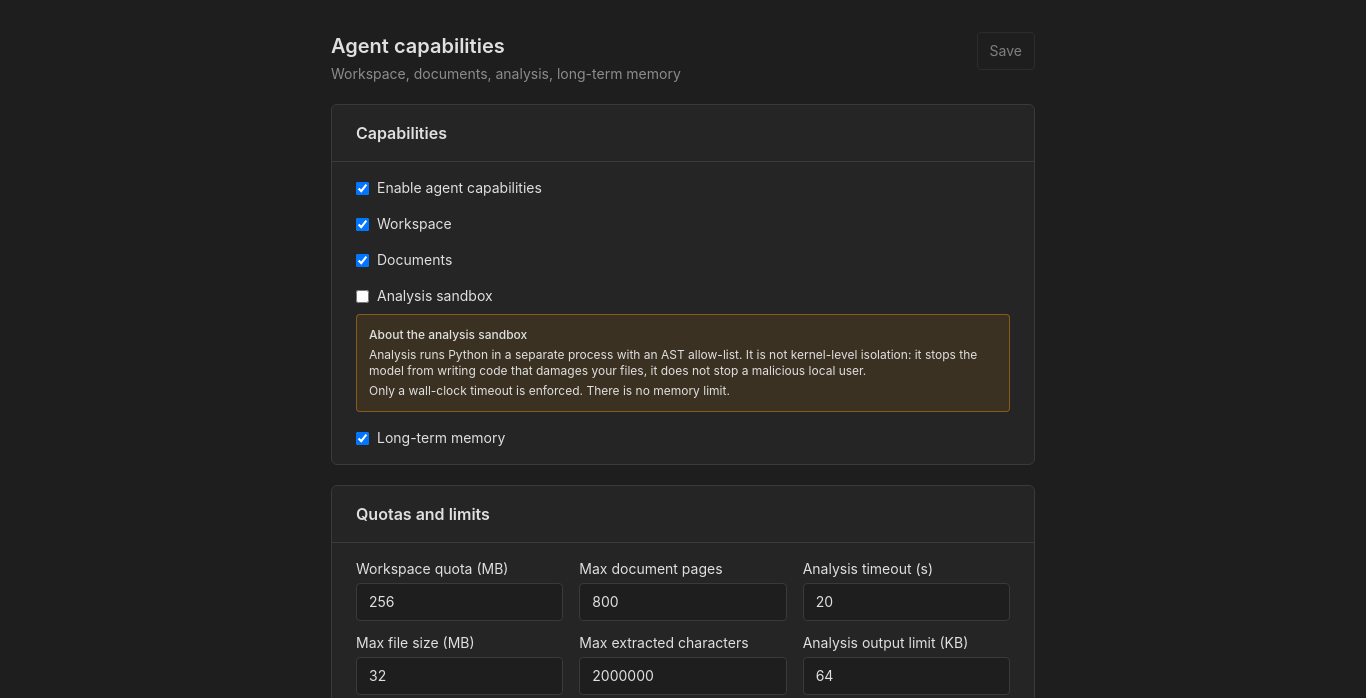
Test: Agent 能力设置面板 › 保存成功后以 aria-live 播报结果并提交变更键
Replace the text in the number field labelled "Max file size (MB)" with "64" at (460, 676), box [356,657,563,695]
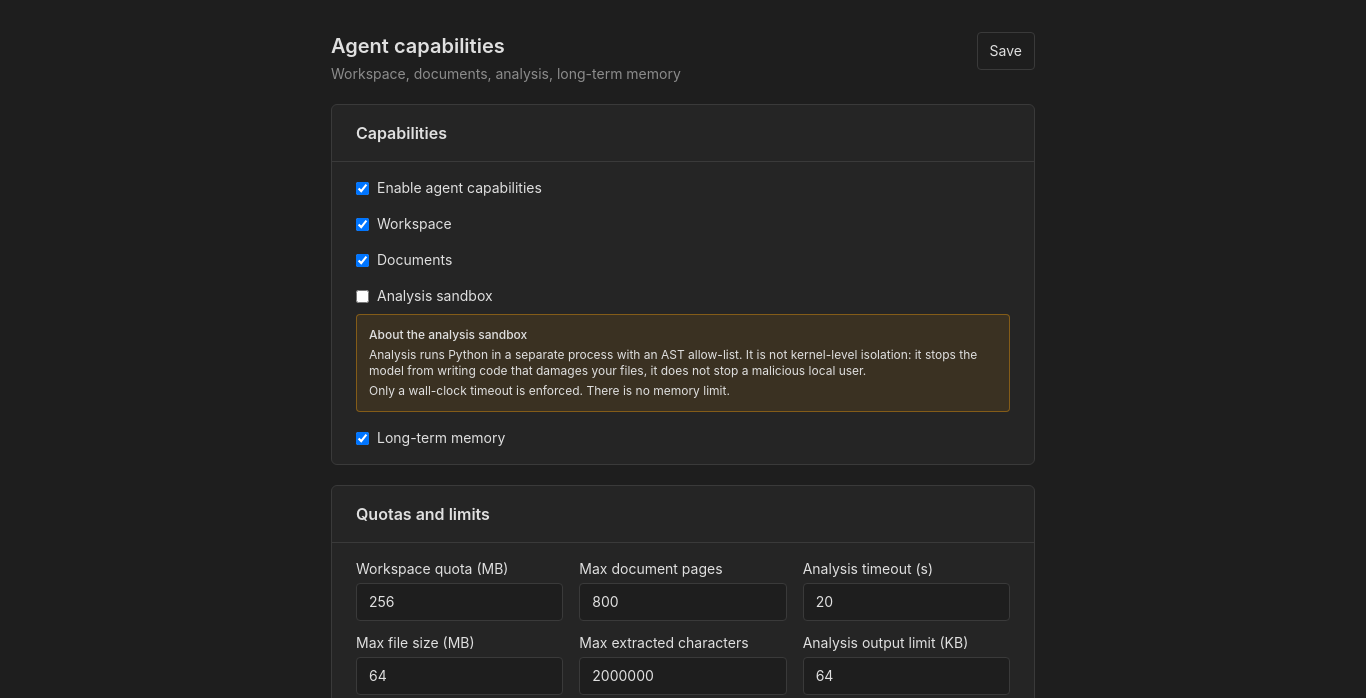
Click the button "Save" at (1006, 51), box [977,32,1035,70]
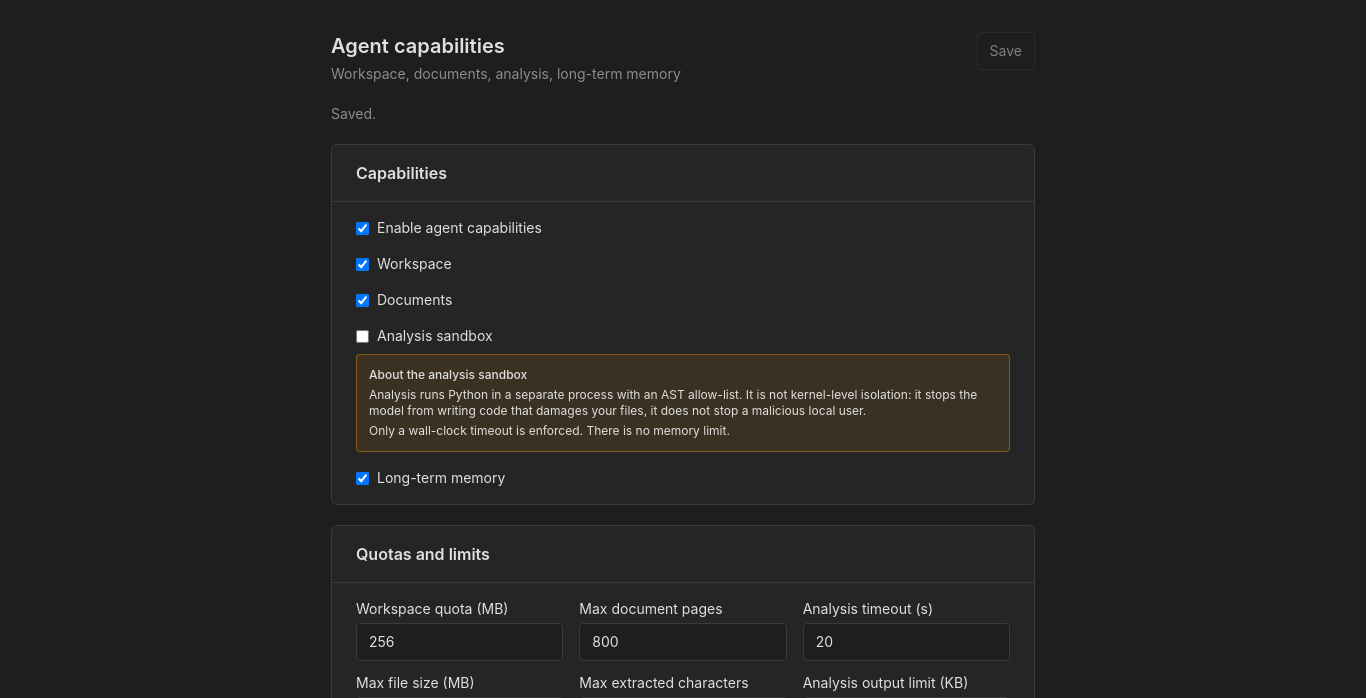
Result: the text "Saved." is shown at [331,105,376,122]
